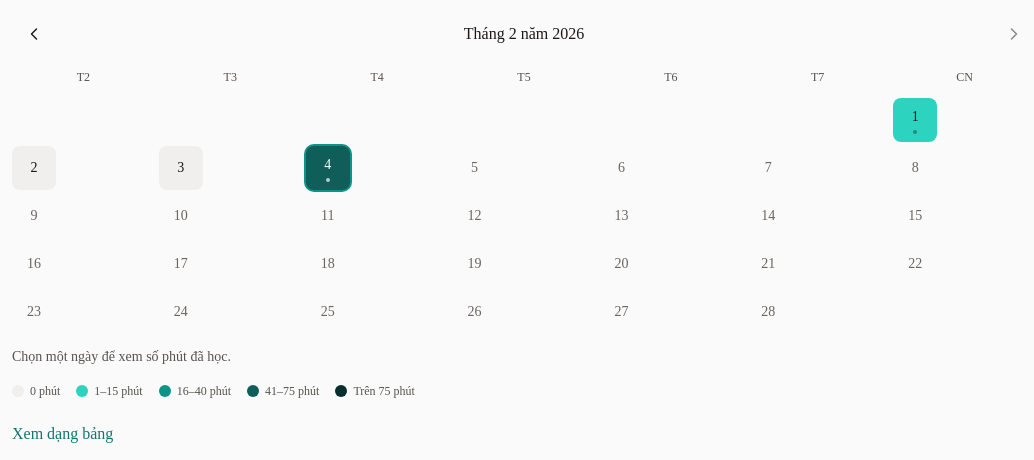
Test: CalendarHeatmap — month view › shows the minutes of a tapped day
Click the button named "1 tháng 2, 2026" at (915, 120), box [893, 98, 937, 142]
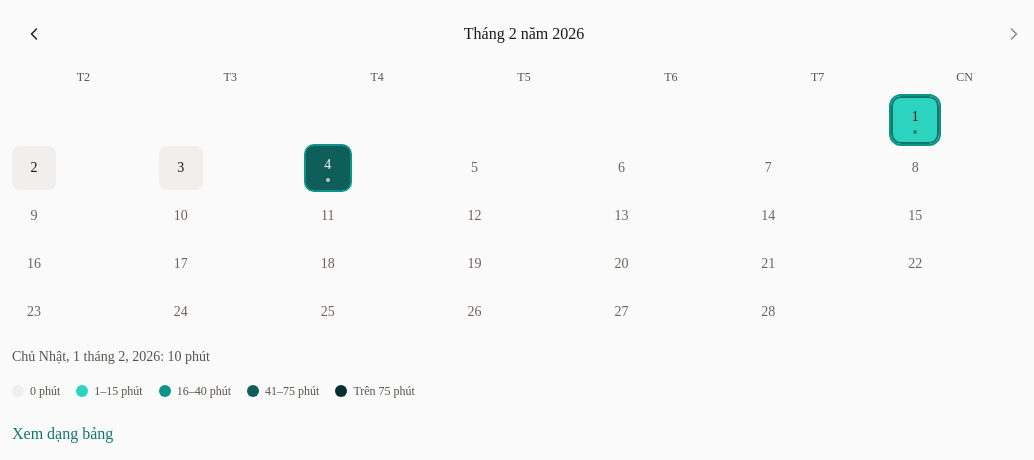
Expected: the text "Chủ Nhật, 1 tháng 2, 2026: 10 phút" is shown, [12, 349, 210, 364]
